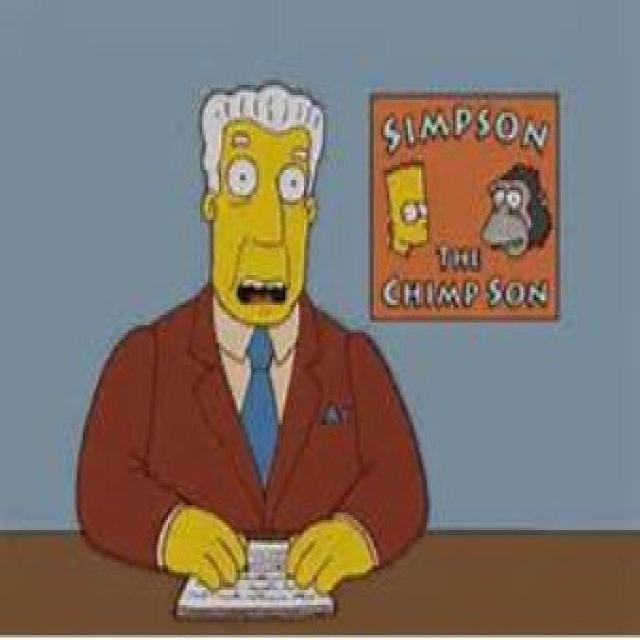Kent Brockman: (195, 79, 326, 336)
